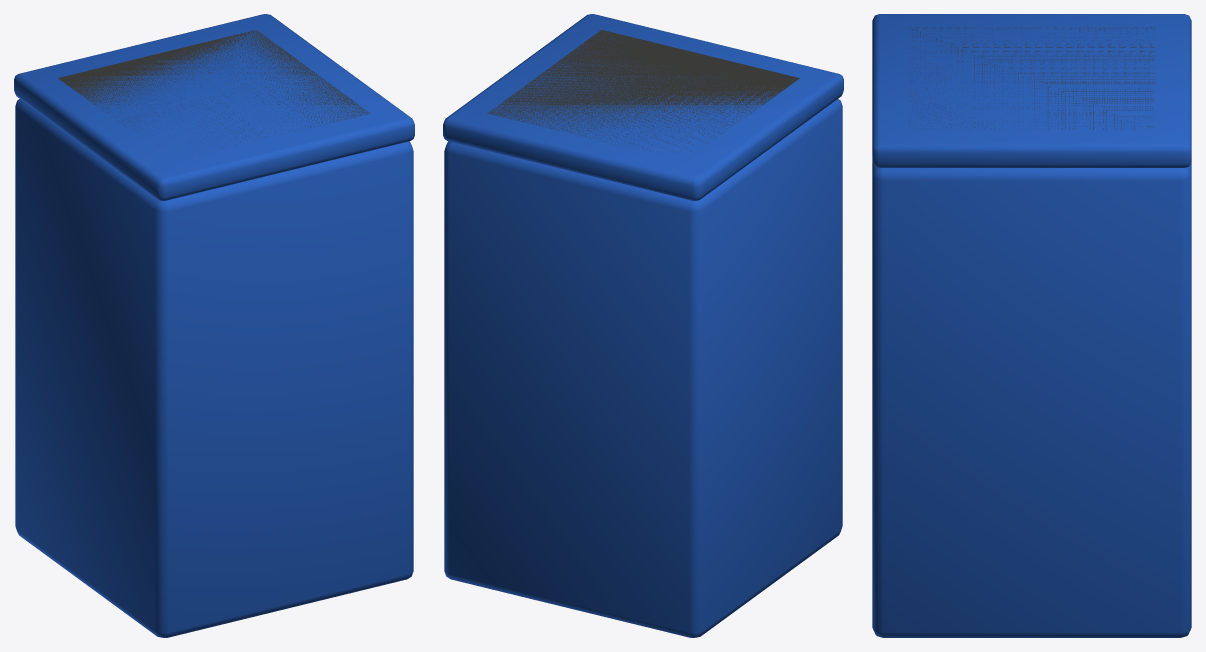
The model's file is utility.recycle-bin.glb.
3 views of the same model, side by side, from view 1: azimuth 30°, elevation 25°; view 2: azimuth 150°, elevation 25°; view 3: azimuth 270°, elevation 25° (orthographic). The views are drawn at different scales.
Visible parts, largest first — view 1: utility.recycle-bin.001; view 2: utility.recycle-bin.001; view 3: utility.recycle-bin.001.
Boxes of the visible parts, box(x1,y1,x2,y2) form: utility.recycle-bin.001: box(14, 14, 414, 637); utility.recycle-bin.001: box(443, 14, 843, 637); utility.recycle-bin.001: box(872, 14, 1191, 637).
Size of the model in its own units: 0.35 by 0.6 by 0.35.
